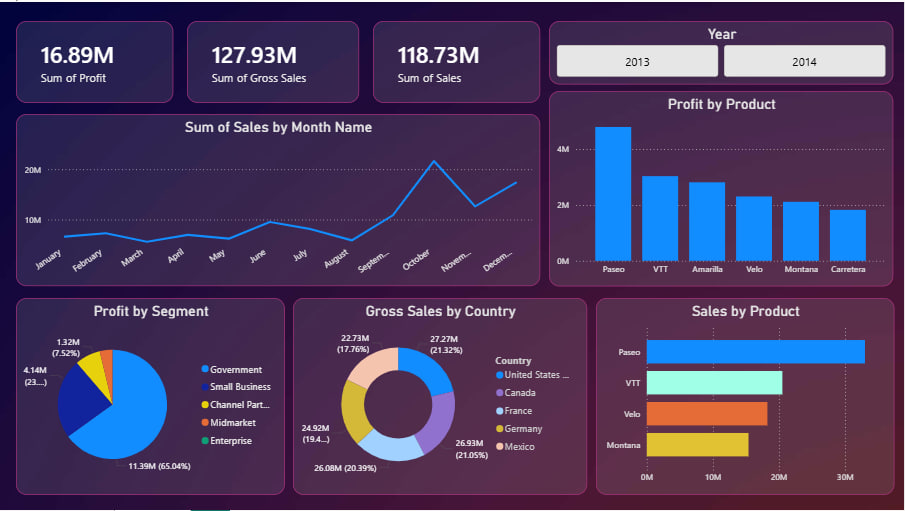

What the dashboard file says about the page in this screenshot:
{"tool":"powerbi","page":{"name":"Page 1","canvas":[1280,720],"ordinal":0},"visuals":[{"type":"lineClusteredColumnComboChart","title":"Profit by Product","fields":{"Category":["financials.Product"],"Y":["Sum(financials.Profit)"]},"box":[778.3,126.7,488.3,276.7],"z":0},{"type":"cardVisual","fields":{"Data":["Sum(financials.Profit)"]},"box":[22.9,27.1,222.9,115.7],"z":1000},{"type":"cardVisual","fields":{"Data":["Sum(financials.Gross Sales)"]},"box":[265.7,27.1,244.3,115.7],"z":2000},{"type":"donutChart","title":"Gross Sales by Country","fields":{"Category":["financials.Country"],"Y":["Sum(financials.Gross Sales)"]},"box":[415.7,420,417.1,278.6],"z":3000},{"type":"barChart","title":"Sales by Product","fields":{"Category":["financials.Product"],"Y":["Sum(financials.Sales)"]},"box":[844.3,420,422.9,278.6],"z":4000},{"type":"advancedSlicerVisual","fields":{"Values":["financials.Year"]},"box":[778.3,26.7,488.3,90],"z":5000},{"type":"lineChart","fields":{"Y":["Sum(financials.Sales)"],"Category":["financials.Month Name"]},"box":[22.9,158.6,742.9,244.3],"z":6000},{"type":"cardVisual","fields":{"Data":["Sum(financials.Sales)"]},"box":[528.6,27.1,237.1,115.7],"z":7000},{"type":"pieChart","title":"Profit by Segment","fields":{"Category":["financials.Segment"],"Y":["Sum(financials.Profit)"]},"box":[22.9,420,381.4,278.6],"z":8000}]}

Visuals, with their boxes in screenshot pixels (x1, y1, x2, y2), scaled from the page's 1280x720 canvas onto the 905x511 screenshot:
"Profit by Product" lineClusteredColumnComboChart: [left=550, top=90, right=896, bottom=286]
cardVisual - Sum(financials.Profit): [left=16, top=19, right=174, bottom=101]
cardVisual - Sum(financials.Gross Sales): [left=188, top=19, right=361, bottom=101]
"Gross Sales by Country" donutChart: [left=294, top=298, right=589, bottom=496]
"Sales by Product" barChart: [left=597, top=298, right=896, bottom=496]
advancedSlicerVisual - financials.Year: [left=550, top=19, right=896, bottom=83]
lineChart - Sum(financials.Sales) x financials.Month Name: [left=16, top=113, right=541, bottom=286]
cardVisual - Sum(financials.Sales): [left=374, top=19, right=541, bottom=101]
"Profit by Segment" pieChart: [left=16, top=298, right=286, bottom=496]
